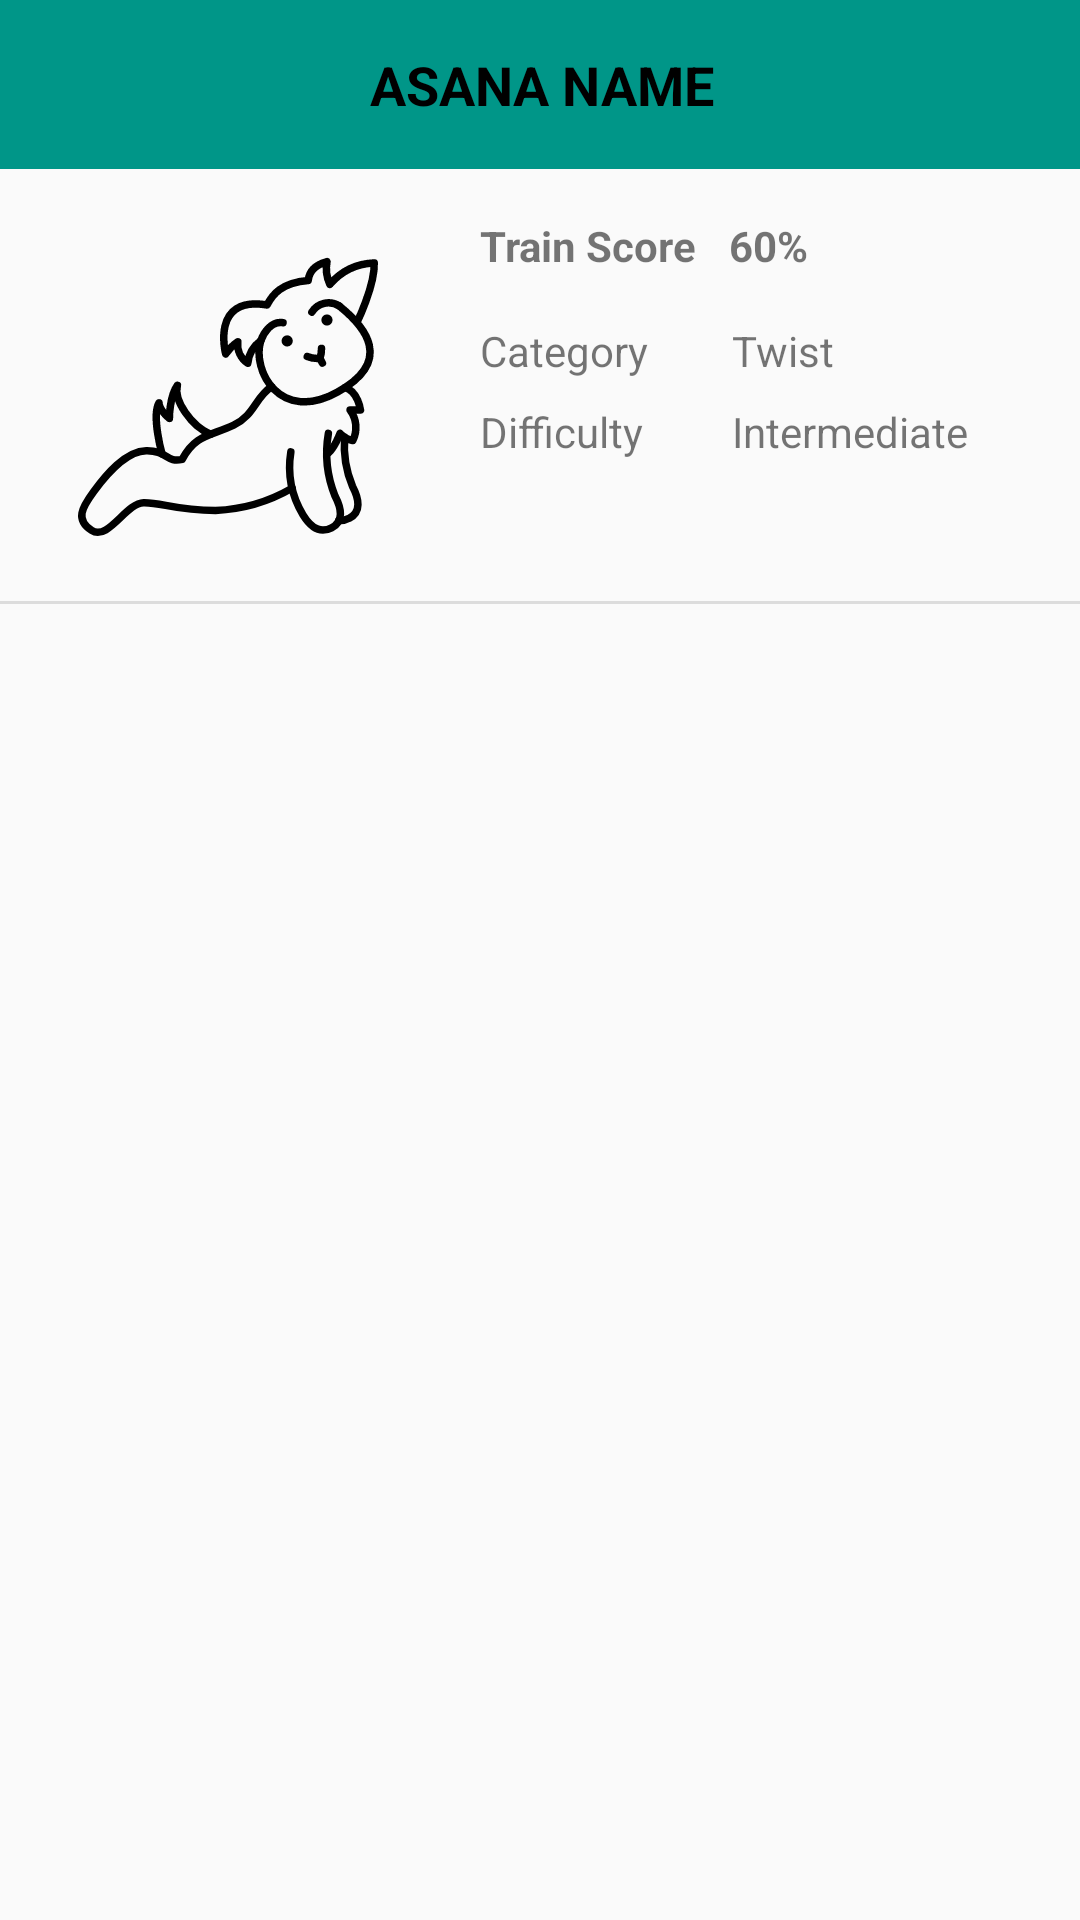

Icon bounding boxes for this 1080 x 1920 phone screenshot, format (x1, y1, x2, y2):
yoga first: (78, 257, 378, 536)
